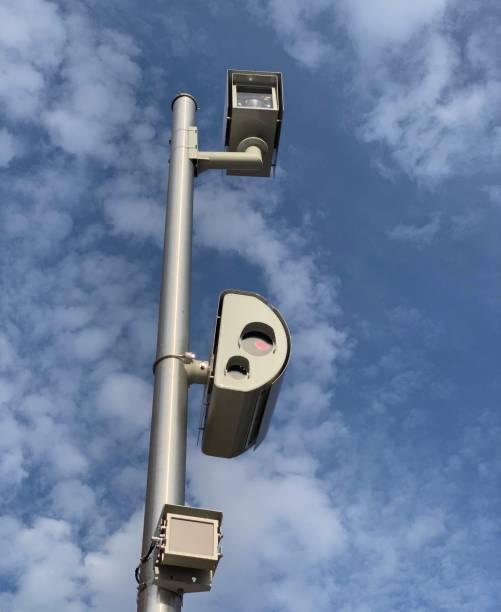Speed-Camera: (191, 54, 309, 469)
